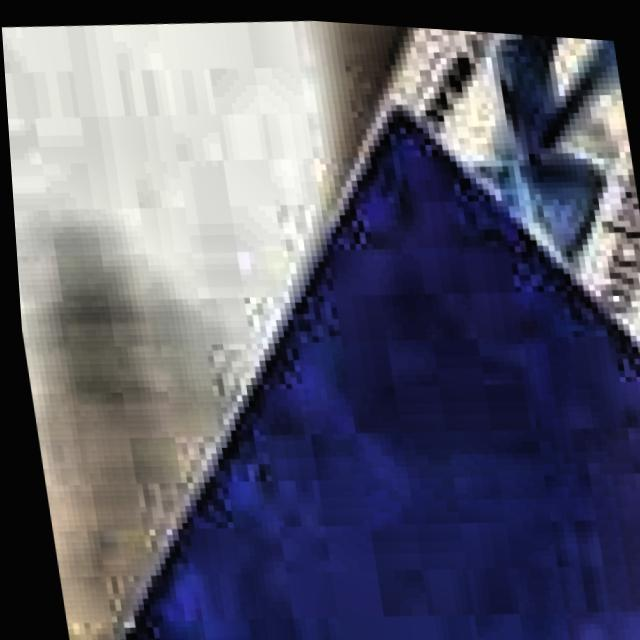paper: (108, 21, 640, 640)
